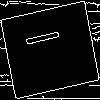I: (25, 25, 69, 48)
